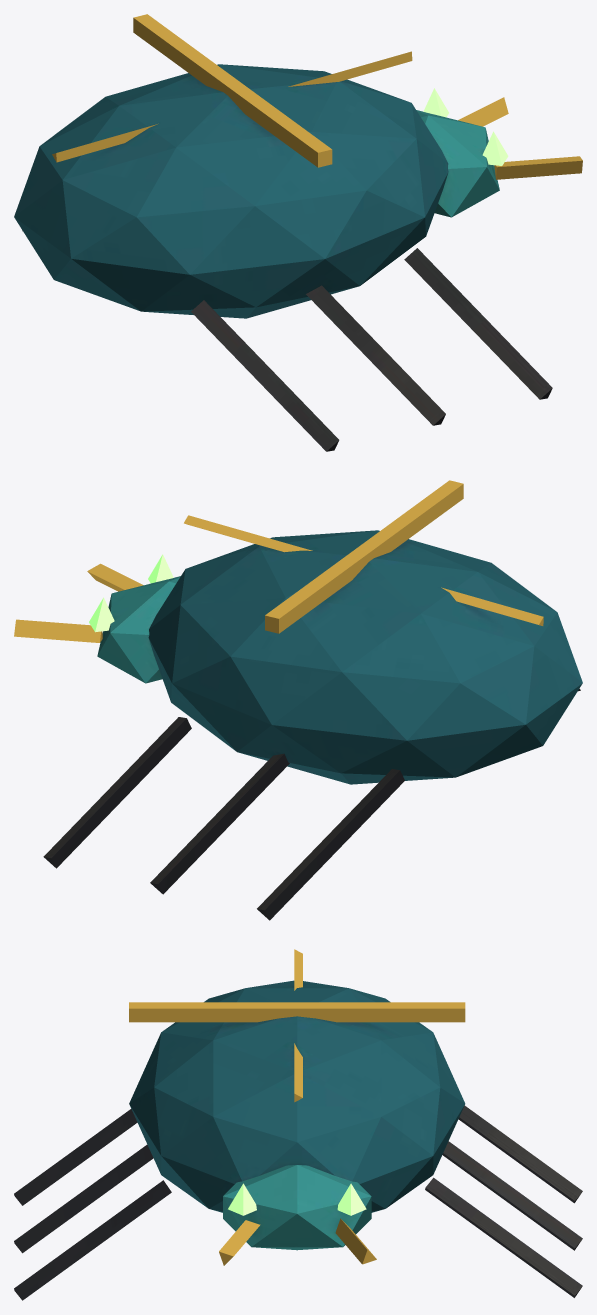
File: skarabe_tex.glb
The picture shows the model from 3 angles, top to bottom: view 1: azimuth 30°, elevation 25°; view 2: azimuth 150°, elevation 25°; view 3: azimuth 270°, elevation 25°; orthographic projection. The views are drawn at different scales.
Parts seen in each view (by area): view 1: skarabe; view 2: skarabe; view 3: skarabe.
Boxes of the visible parts, x1,y1,x2,y2 form: skarabe: [14, 14, 582, 451]; skarabe: [14, 480, 582, 920]; skarabe: [14, 949, 582, 1300].
Size of the model in its own units: 1.41 by 0.6602 by 1.52.
5 materials, 3 textured.
